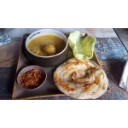parota: (54, 57, 108, 100)
